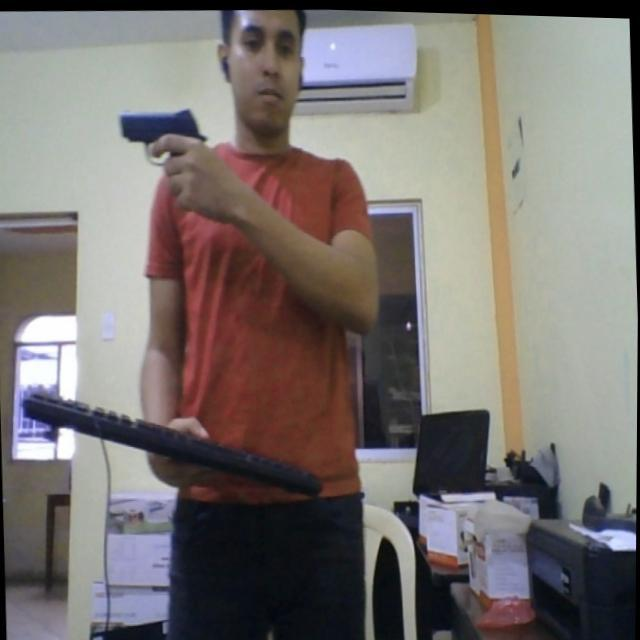weapon: (114, 102, 208, 182)
